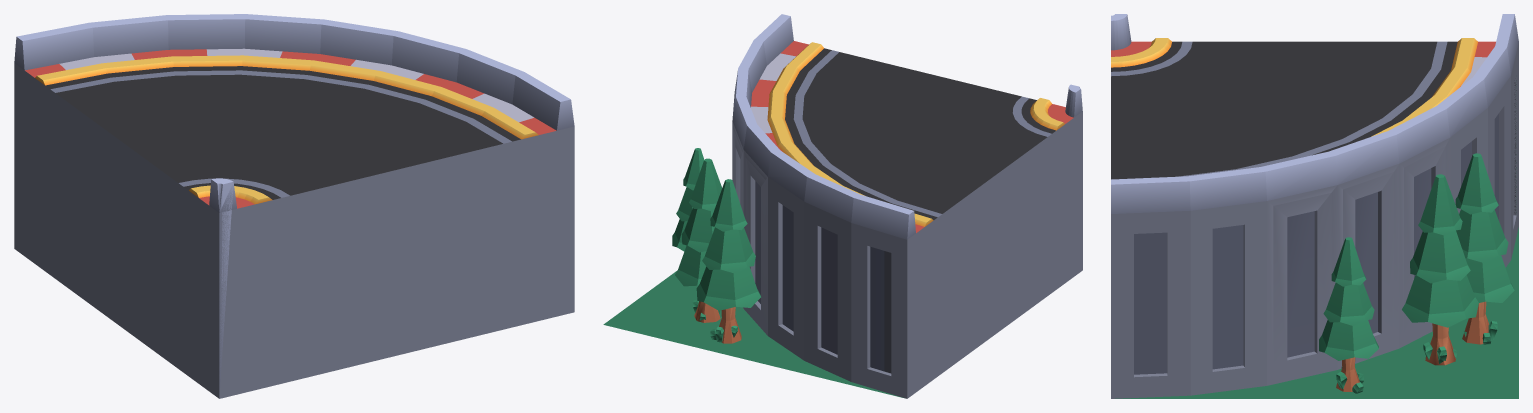
Rendered from elev-track-corner.glb.
3 renders of one model, left to right at view 1: azimuth 30°, elevation 25°; view 2: azimuth 150°, elevation 25°; view 3: azimuth 270°, elevation 25°, orthographic. The views are drawn at different scales.
Visible parts, largest first — view 1: track-corner; view 2: track-corner; view 3: track-corner.
Boxes of the visible parts, x1,y1,x2,y2 form: track-corner: (14,14,574,398); track-corner: (603,14,1082,398); track-corner: (1111,14,1518,398).
Bounding box in the file's own units: 10.06 × 5.75 × 10.
1 material, 1 textured.
